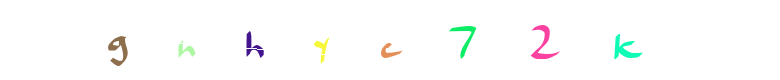2: (503, 0, 583, 80)
7: (425, 0, 505, 80)
C: (350, 0, 430, 80)
G: (81, 0, 161, 80)
H: (238, 0, 318, 80)
K: (576, 0, 656, 80)
N: (213, 0, 293, 80)
Y: (315, 0, 395, 80)
